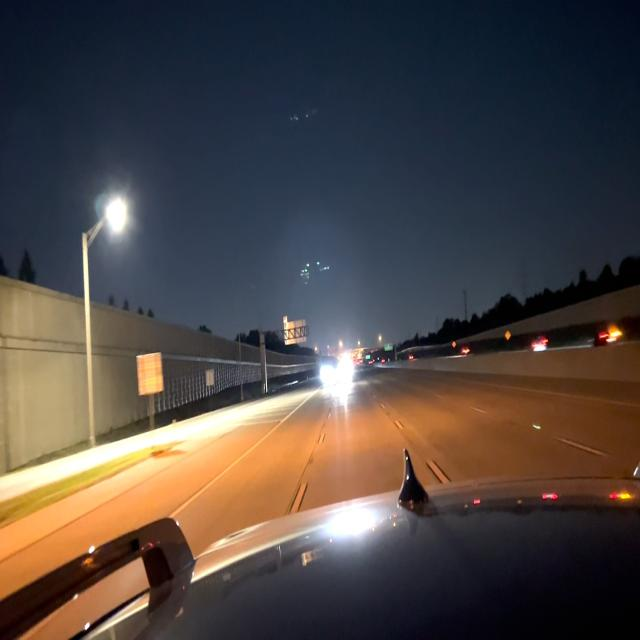back-of-sign: (135, 350, 164, 395), (283, 316, 306, 346), (206, 369, 214, 386)
